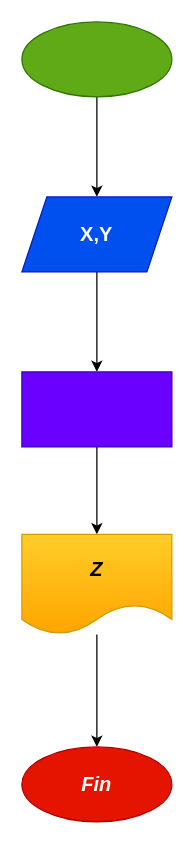
Image size: 194x844. Some labels were removed from this diagram. The box of each missing label's shape, as (x1, y1, x2, y2) in pixels:
Inicio: (21, 21, 172, 97)
Z=X ^Y: (21, 371, 172, 447)
